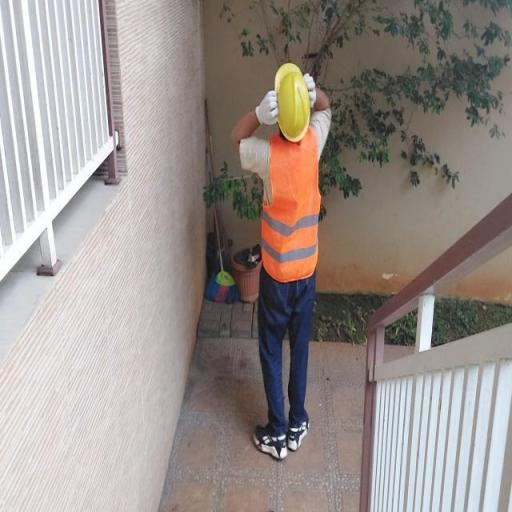Person: (220, 40, 341, 472)
gloves: (248, 82, 286, 132), (296, 62, 325, 114)
helmet: (263, 58, 324, 148)
vest: (250, 126, 333, 288)
